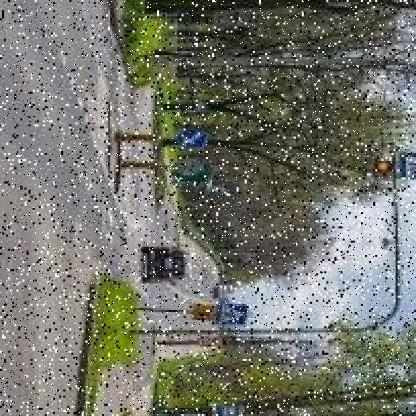Pedestrian Crossing: (208, 302, 251, 334), (396, 151, 416, 180)
